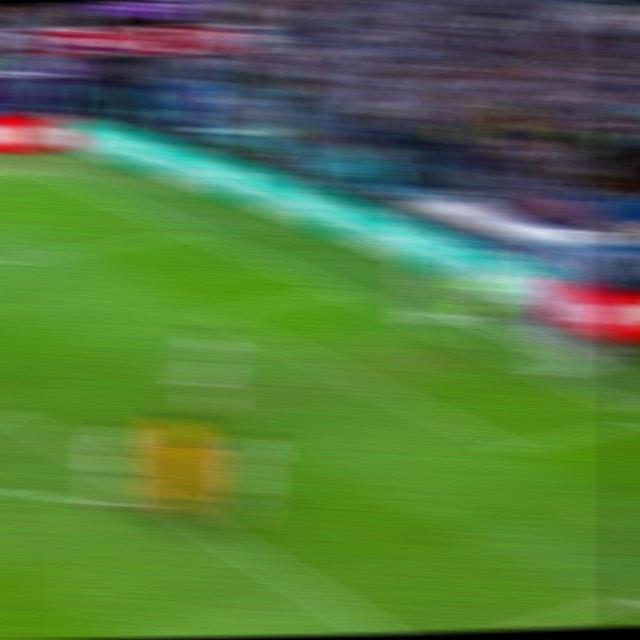bigarea_top_outter: (172, 216, 213, 241)
corner: (17, 159, 61, 175)
smallarea_bottom_inner: (486, 429, 537, 468)
smallarea_top_inner: (195, 301, 240, 326)
smallarea_top_outter: (317, 278, 358, 301)
